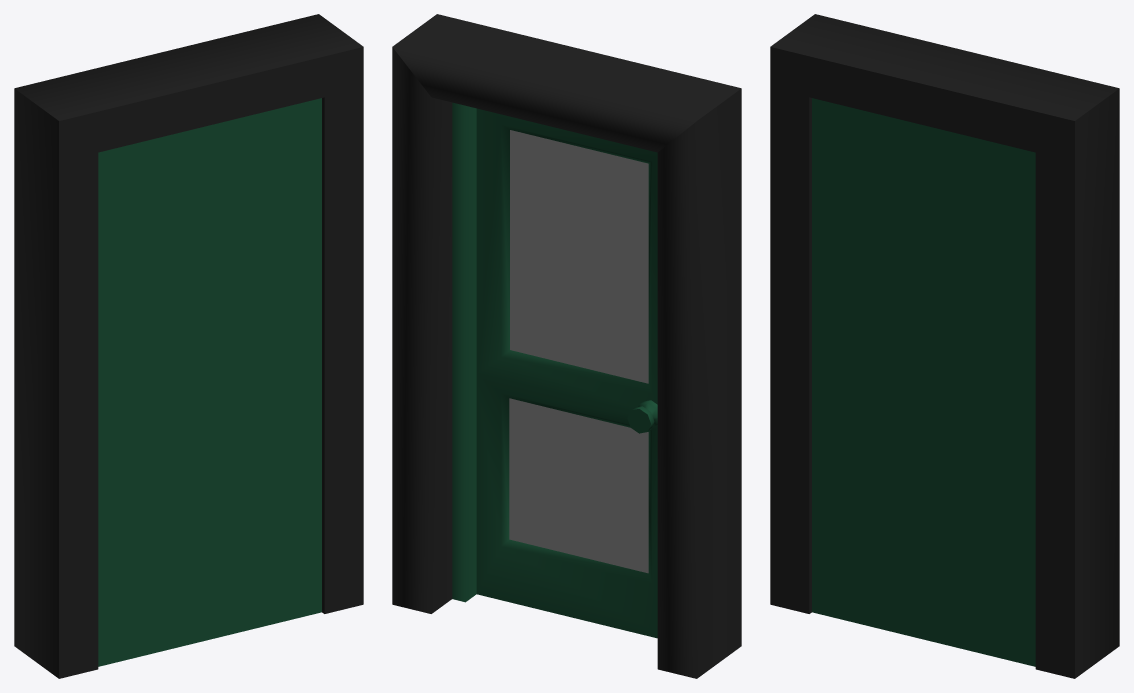
File: G_Door_003_S1.FBX
3 views of the same model, side by side, from view 1: azimuth 30°, elevation 25°; view 2: azimuth 150°, elevation 25°; view 3: azimuth 330°, elevation 25° (orthographic).
Parts seen in each view (by area): view 1: S_M_Ornament_Door003_1x1x2_LOD0; view 2: S_M_Ornament_Door003_1x1x2_LOD0; view 3: S_M_Ornament_Door003_1x1x2_LOD0.
Boxes of the visible parts, x1,y1,x2,y2 form: S_M_Ornament_Door003_1x1x2_LOD0: [14, 14, 363, 678]; S_M_Ornament_Door003_1x1x2_LOD0: [392, 14, 741, 678]; S_M_Ornament_Door003_1x1x2_LOD0: [770, 14, 1119, 678].
Bounding box in the file's own units: 120 × 210 × 30.59.
